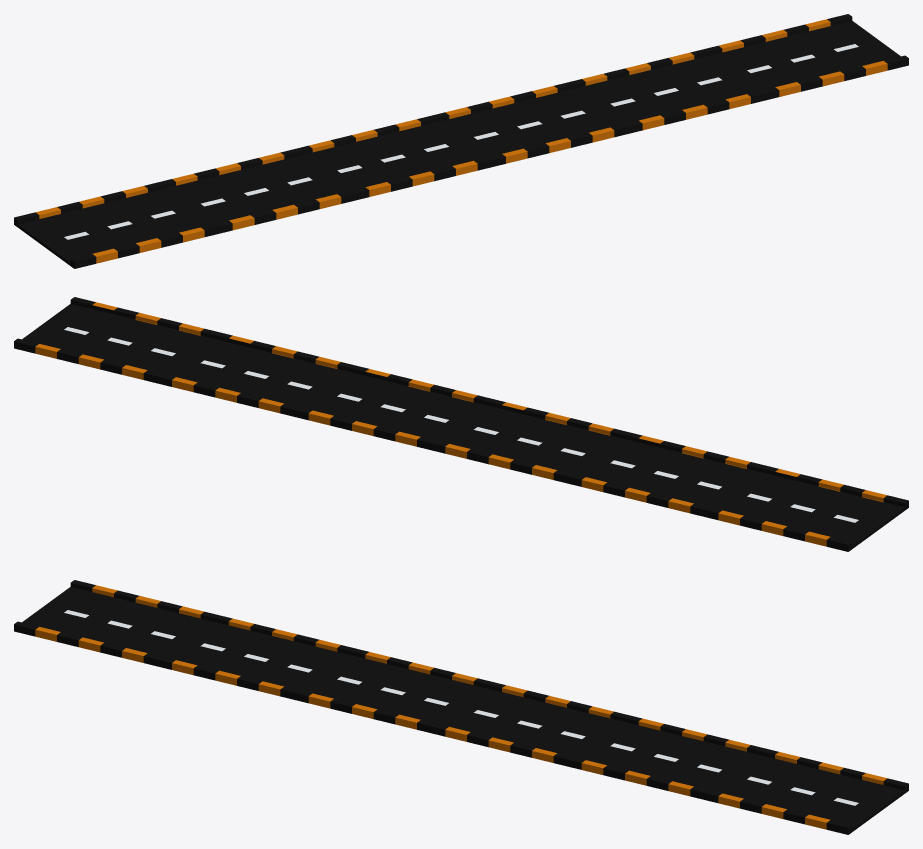
File: Road_Straight_Long_01.fbx
The picture shows the model from 3 angles, top to bottom: view 1: azimuth 30°, elevation 25°; view 2: azimuth 150°, elevation 25°; view 3: azimuth 330°, elevation 25°; orthographic projection.
Visible parts, largest first — view 1: Road_Straight_Long_01; view 2: Road_Straight_Long_01; view 3: Road_Straight_Long_01.
Boxes of the visible parts, x1,y1,x2,y2 form: Road_Straight_Long_01: (14,14,908,268); Road_Straight_Long_01: (14,297,908,551); Road_Straight_Long_01: (14,580,908,834).
Bounding box in the file's own units: 38.39 × 0.3084 × 4.85.
